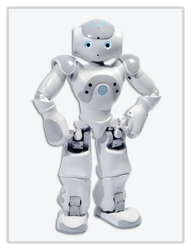nao: (29, 16, 163, 236)
